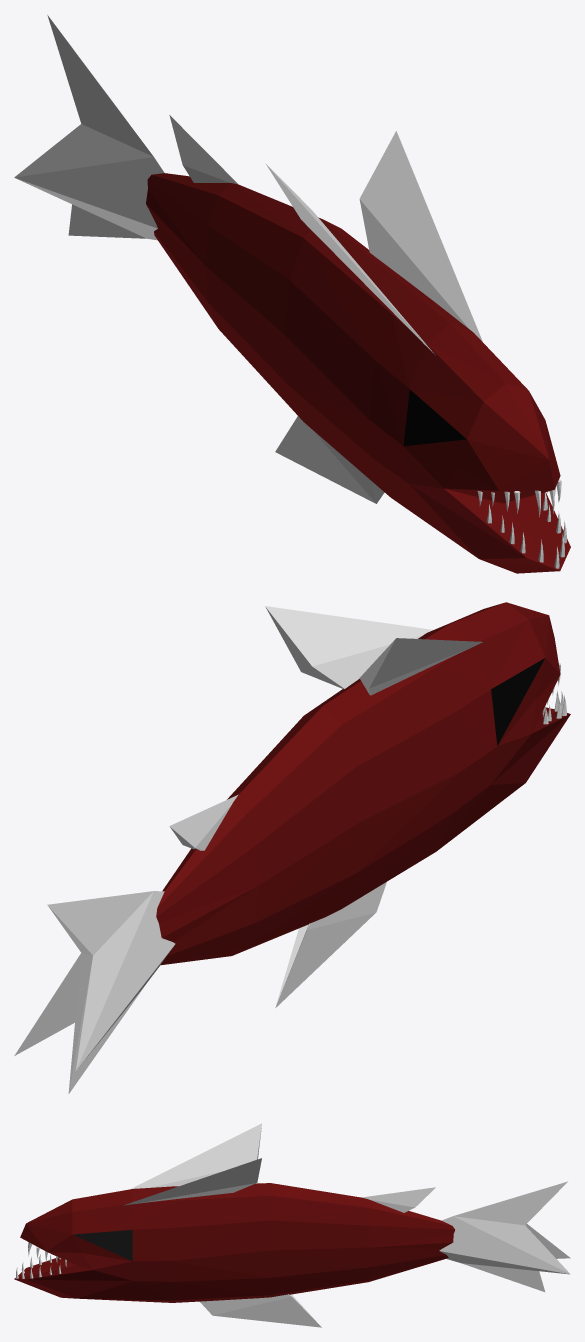
File: Rippy_2.fbx
3 views of the same model, one above another, from view 1: azimuth 30°, elevation 25°; view 2: azimuth 150°, elevation 25°; view 3: azimuth 270°, elevation 25° (orthographic). The views are drawn at different scales.
Parts seen in each view (by area): view 1: polySurface12, polySurface13, pasted__pPyramid4, polySurface11, pPyramid4, pasted__polySurface11; view 2: polySurface12, polySurface13, pasted__pPyramid4, polySurface11, pPyramid4, pasted__polySurface11; view 3: polySurface12, polySurface13, pPyramid4, polySurface11, pasted__pPyramid4, pasted__polySurface11.
Boxes of the visible parts, x1,y1,x2,y2 form: polySurface12: (146, 173, 570, 573); polySurface13: (14, 15, 164, 240); pasted__pPyramid4: (359, 131, 482, 341); polySurface11: (275, 416, 384, 503); pPyramid4: (265, 163, 434, 354); pasted__polySurface11: (169, 115, 238, 184); polySurface12: (156, 602, 570, 965); polySurface13: (14, 891, 175, 1093); pasted__pPyramid4: (265, 606, 432, 689); polySurface11: (275, 882, 386, 1007); pPyramid4: (359, 638, 482, 695); pasted__polySurface11: (169, 794, 238, 850); polySurface12: (14, 1183, 454, 1302); polySurface13: (439, 1181, 570, 1291); pPyramid4: (130, 1123, 261, 1189); polySurface11: (200, 1294, 321, 1327); pasted__pPyramid4: (123, 1158, 261, 1205); pasted__polySurface11: (361, 1187, 435, 1212).
Size of the model in its own units: 0.9556 by 2.4 by 6.49.
